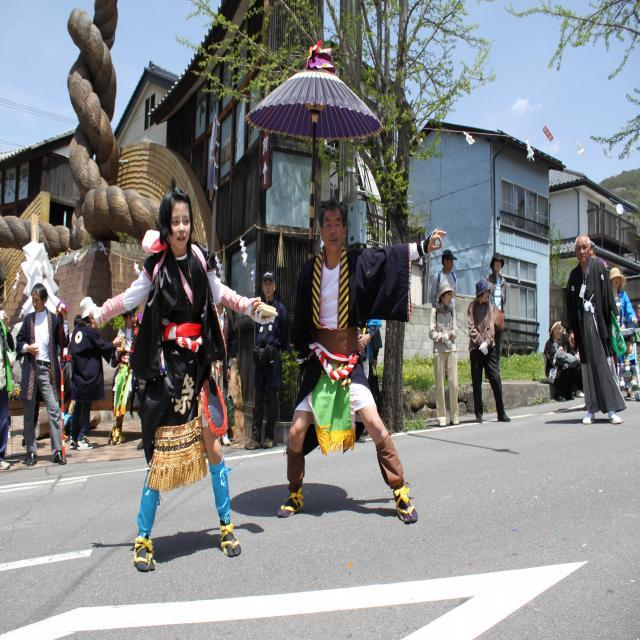person: (82, 177, 280, 572), (283, 196, 446, 524), (560, 234, 630, 426), (15, 284, 69, 466), (466, 278, 512, 424), (428, 280, 464, 427)
